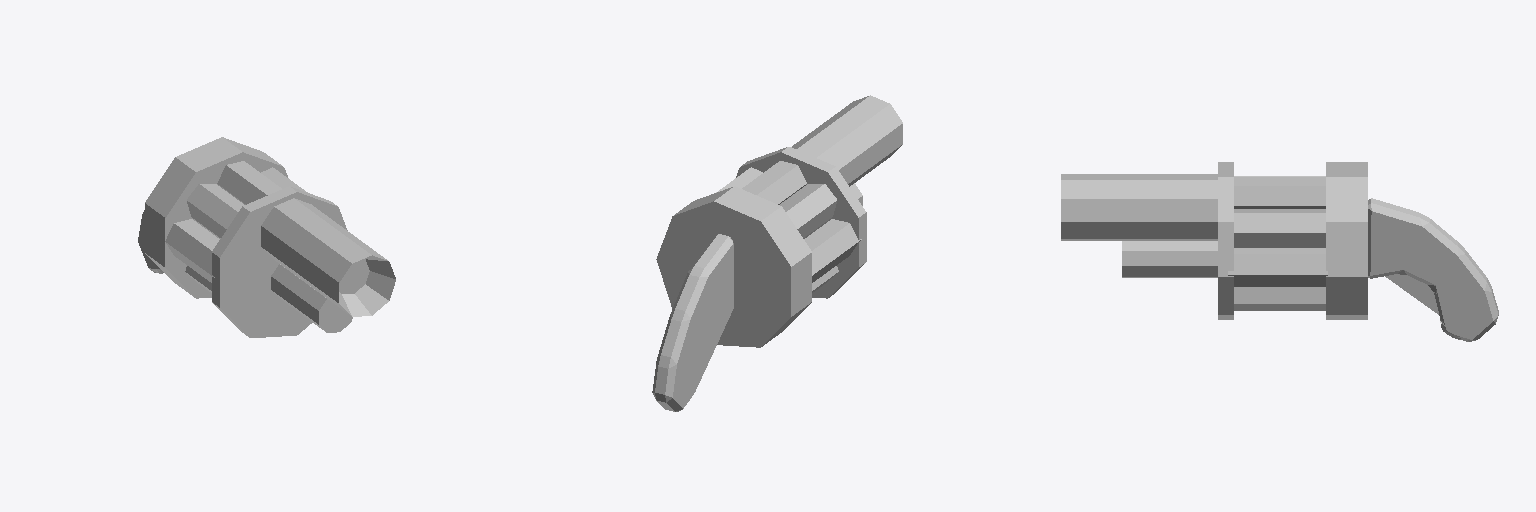
File: mdl_grenadeLauncher.obj
3 views of the same model, side by side, from view 1: azimuth 30°, elevation 25°; view 2: azimuth 150°, elevation 25°; view 3: azimuth 270°, elevation 25° (orthographic).
Visible parts, largest first — view 1: Cylinder011, Cylinder010, Cylinder001, Cylinder012, Cylinder002, Cylinder008, Cylinder004; view 2: Cylinder001, Line001, Cylinder011, Cylinder010, Cylinder002, Cylinder008, Cylinder004; view 3: Line001, Cylinder011, Cylinder001, Cylinder003, Cylinder006, Cylinder012, Cylinder004, Cylinder010, Cylinder009.
Part boxes in pixels (left/top/right/bottom): Cylinder011: left=261, top=198, right=395, bottom=316; Cylinder010: left=212, top=186, right=347, bottom=337; Cylinder001: left=145, top=137, right=287, bottom=298; Cylinder012: left=271, top=264, right=352, bottom=332; Cylinder002: left=165, top=219, right=219, bottom=282; Cylinder008: left=187, top=184, right=243, bottom=237; Cylinder004: left=217, top=161, right=281, bottom=204; Cylinder001: left=656, top=186, right=811, bottom=347; Line001: left=652, top=234, right=733, bottom=411; Cylinder011: left=792, top=95, right=902, bottom=186; Cylinder010: left=736, top=147, right=866, bottom=298; Cylinder002: left=804, top=219, right=861, bottom=282; Cylinder008: left=780, top=184, right=836, bottom=237; Cylinder004: left=742, top=161, right=806, bottom=204; Line001: left=1368, top=198, right=1498, bottom=341; Cylinder011: left=1061, top=174, right=1217, bottom=240; Cylinder001: left=1326, top=162, right=1367, bottom=319; Cylinder003: left=1228, top=248, right=1327, bottom=286; Cylinder006: left=1234, top=209, right=1325, bottom=247; Cylinder012: left=1122, top=241, right=1217, bottom=277; Cylinder004: left=1234, top=177, right=1325, bottom=208; Cylinder010: left=1218, top=162, right=1233, bottom=319; Cylinder009: left=1234, top=287, right=1325, bottom=310.
Bounding box in the file's own units: 0.533 × 0.633 × 1.49.